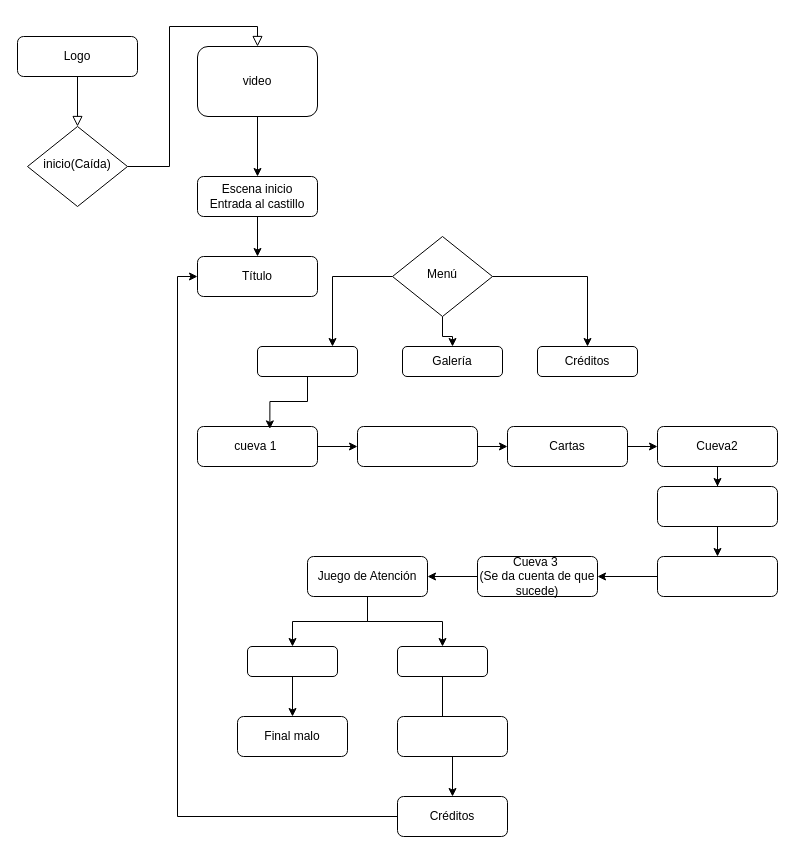
This 795x854 diagram has some shape labels left out. The shapes that lost their labels are listed below. From the top down, each one's box as (x1, y1, x2, y2) in pixels, then its label:
(256, 346, 358, 376): Empezar
(356, 426, 478, 466): Preescena cartas
(656, 486, 778, 526): Preescena contraseña
(656, 556, 778, 596): Contraseña
(246, 646, 338, 676): falla
(396, 646, 488, 676): Gana
(396, 716, 508, 756): Final bueno
